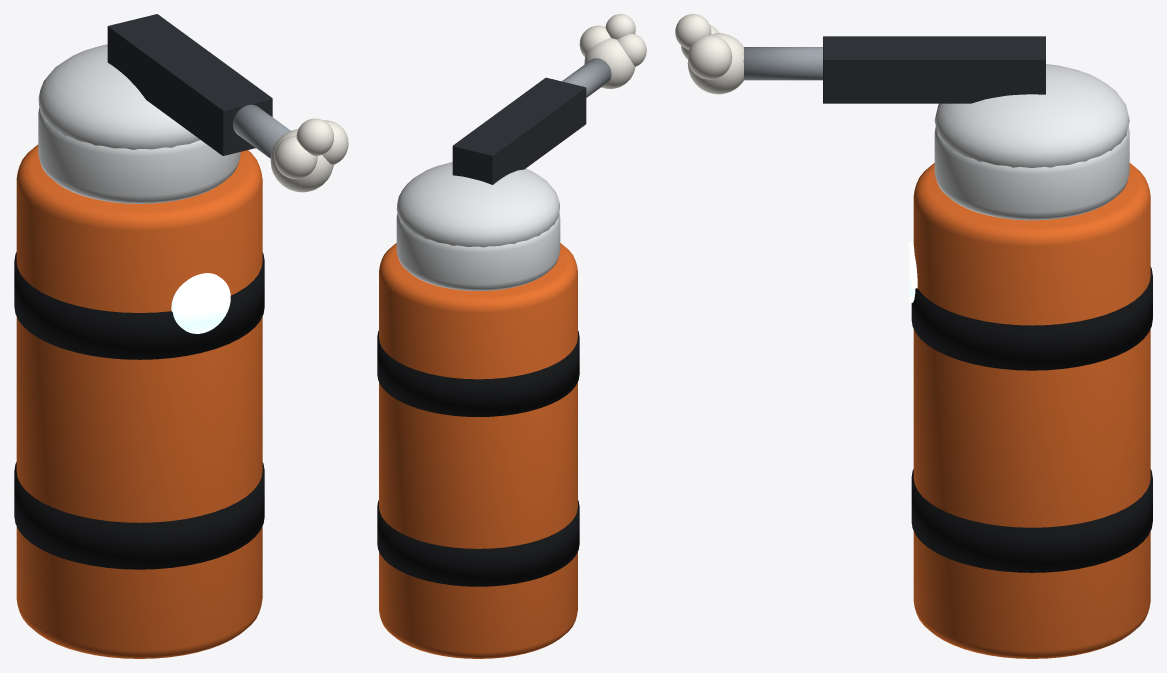
Rendered from foam.fbx.
The picture shows the model from 3 angles, left to right: view 1: azimuth 30°, elevation 25°; view 2: azimuth 150°, elevation 25°; view 3: azimuth 270°, elevation 25°; orthographic projection. The views are drawn at different scales.
Parts seen in each view (by area): view 1: Cylinder.007, Cylinder.008, Cube.003, Cylinder.009, Cylinder.010, Sphere, Cylinder.012, Cylinder.011, Sphere.003, Sphere.001, Sphere.004, Sphere.002; view 2: Cylinder.007, Sphere, Cube.003, Cylinder.008, Cylinder.009, Cylinder.010, Sphere.001, Cylinder.011, Sphere.003, Sphere.004, Sphere.002; view 3: Cylinder.007, Cube.003, Sphere, Cylinder.008, Cylinder.009, Cylinder.010, Cylinder.011, Sphere.002, Sphere.001, Sphere.004.
Boxes of the visible parts, x1=… form: Cylinder.007: x1=16, y1=144, x2=262, y2=658; Cylinder.008: x1=14, y1=462, x2=264, y2=569; Cube.003: x1=107, y1=14, x2=272, y2=155; Cylinder.009: x1=14, y1=252, x2=264, y2=359; Cylinder.010: x1=38, y1=107, x2=240, y2=203; Sphere: x1=38, y1=44, x2=200, y2=149; Cylinder.012: x1=171, y1=273, x2=230, y2=333; Cylinder.011: x1=233, y1=104, x2=290, y2=158; Sphere.003: x1=274, y1=135, x2=317, y2=178; Sphere.001: x1=270, y1=129, x2=333, y2=192; Sphere.004: x1=296, y1=118, x2=333, y2=155; Sphere.002: x1=322, y1=120, x2=348, y2=164; Cylinder.007: x1=379, y1=243, x2=577, y2=658; Sphere: x1=396, y1=162, x2=559, y2=247; Cube.003: x1=452, y1=77, x2=586, y2=184; Cylinder.008: x1=377, y1=500, x2=579, y2=586; Cylinder.009: x1=377, y1=330, x2=579, y2=416; Cylinder.010: x1=396, y1=213, x2=560, y2=290; Sphere.001: x1=584, y1=38, x2=635, y2=88; Cylinder.011: x1=562, y1=58, x2=611, y2=97; Sphere.003: x1=617, y1=33, x2=646, y2=66; Sphere.004: x1=605, y1=14, x2=635, y2=39; Sphere.002: x1=579, y1=25, x2=611, y2=56; Cylinder.007: x1=913, y1=163, x2=1150, y2=658; Cube.003: x1=823, y1=36, x2=1045, y2=103; Sphere: x1=934, y1=64, x2=1129, y2=167; Cylinder.008: x1=911, y1=469, x2=1152, y2=572; Cylinder.009: x1=911, y1=267, x2=1152, y2=370; Cylinder.010: x1=934, y1=126, x2=1129, y2=220; Cylinder.011: x1=743, y1=47, x2=822, y2=80; Sphere.002: x1=687, y1=35, x2=732, y2=79; Sphere.001: x1=687, y1=33, x2=743, y2=94; Sphere.004: x1=675, y1=14, x2=711, y2=49.
Bounding box in the file's own units: 17.3 × 47.3 × 34.25.
